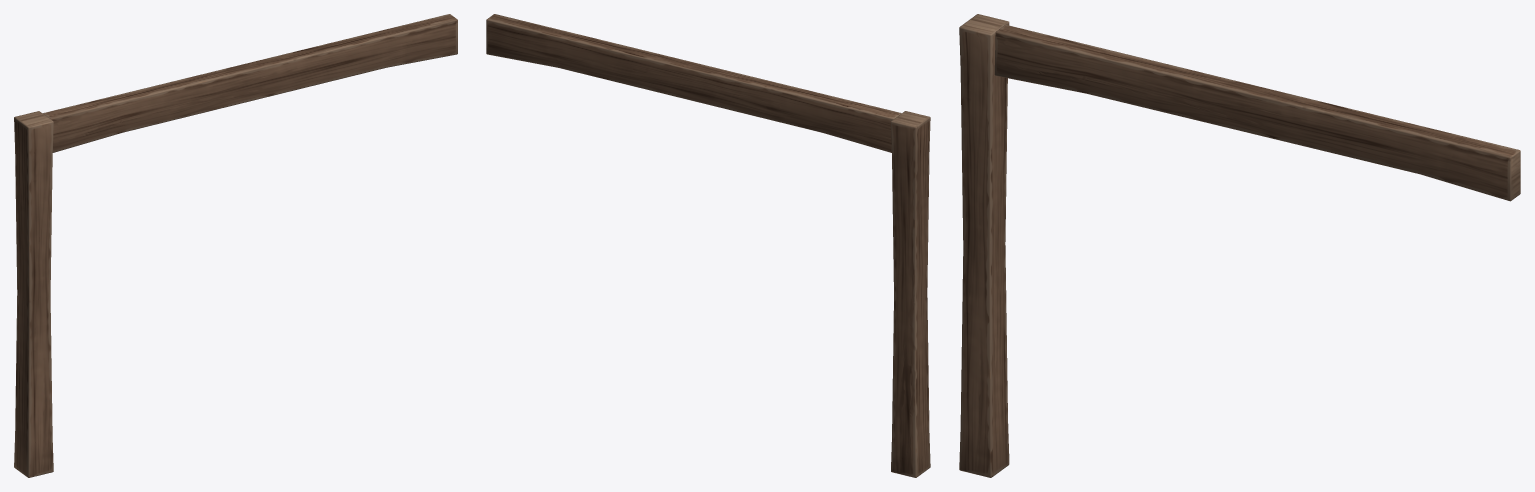
The model's file is Hangar01B_3.FBX.
The picture shows the model from 3 angles, left to right: view 1: azimuth 30°, elevation 25°; view 2: azimuth 150°, elevation 25°; view 3: azimuth 330°, elevation 25°; orthographic projection. The views are drawn at different scales.
Parts seen in each view (by area): view 1: Hangar01B_3; view 2: Hangar01B_3; view 3: Hangar01B_3.
Boxes of the visible parts, <box> form: Hangar01B_3: <box>14,14,457,477</box>; Hangar01B_3: <box>486,14,930,477</box>; Hangar01B_3: <box>959,14,1520,477</box>.
Size of what is drawn, in the model's own units: 4.52 by 3.5 by 0.2683.
